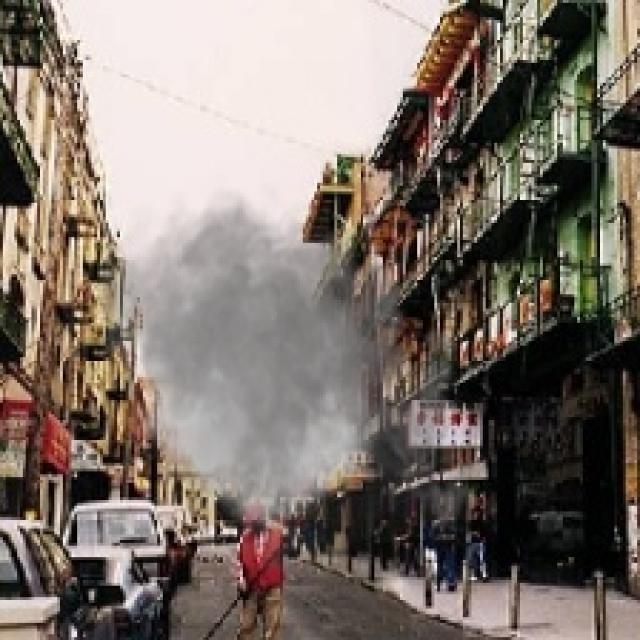Smoke: (80, 175, 483, 600)
